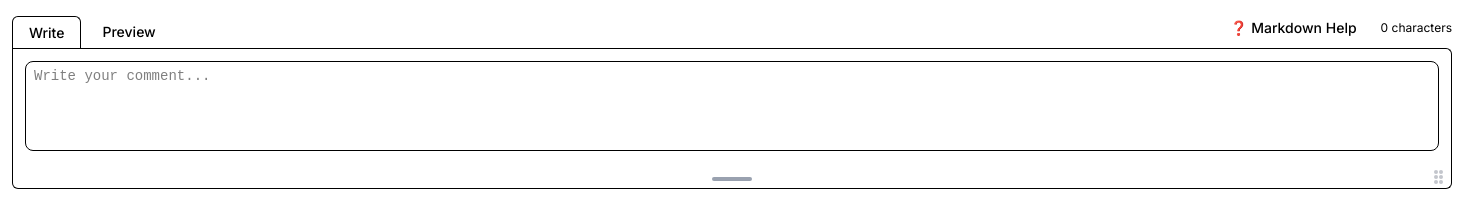
it: CommentEditor › Preview Toggle › shows preview when Preview tab is clicked
Click the button "Preview".
click(129, 32)  # box [86,15,173,48]
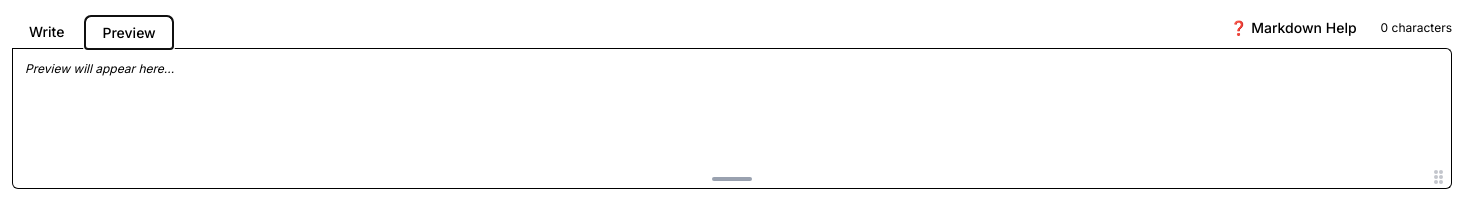
Expected: the text "Preview will appear here..." is shown, [25,61,174,76]
